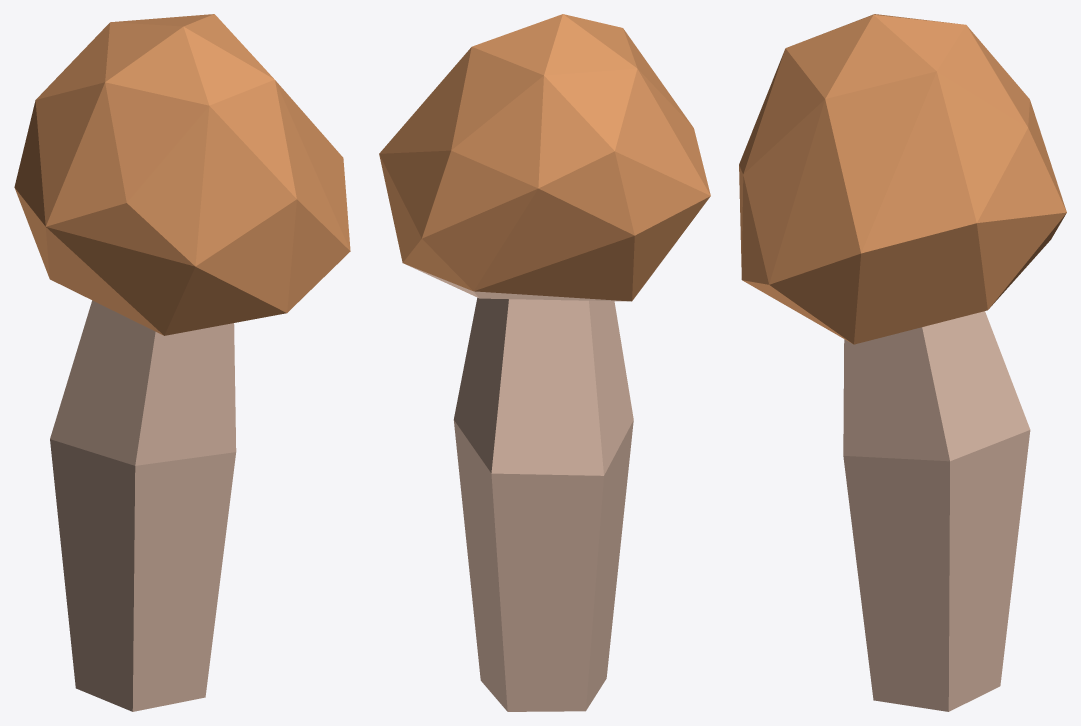
Rendered from Mushroom_f_04.fbx.
The picture shows the model from 3 angles, left to right: view 1: azimuth 30°, elevation 25°; view 2: azimuth 150°, elevation 25°; view 3: azimuth 270°, elevation 25°; orthographic projection. The views are drawn at different scales.
Parts seen in each view (by area): view 1: Mushroom_f_04; view 2: Mushroom_f_04; view 3: Mushroom_f_04.
Boxes of the visible parts, x1,y1,x2,y2 form: Mushroom_f_04: (14, 14, 350, 711); Mushroom_f_04: (379, 14, 710, 711); Mushroom_f_04: (739, 14, 1066, 711).
Bounding box in the file's own units: 0.1468 × 0.317 × 0.1396.
